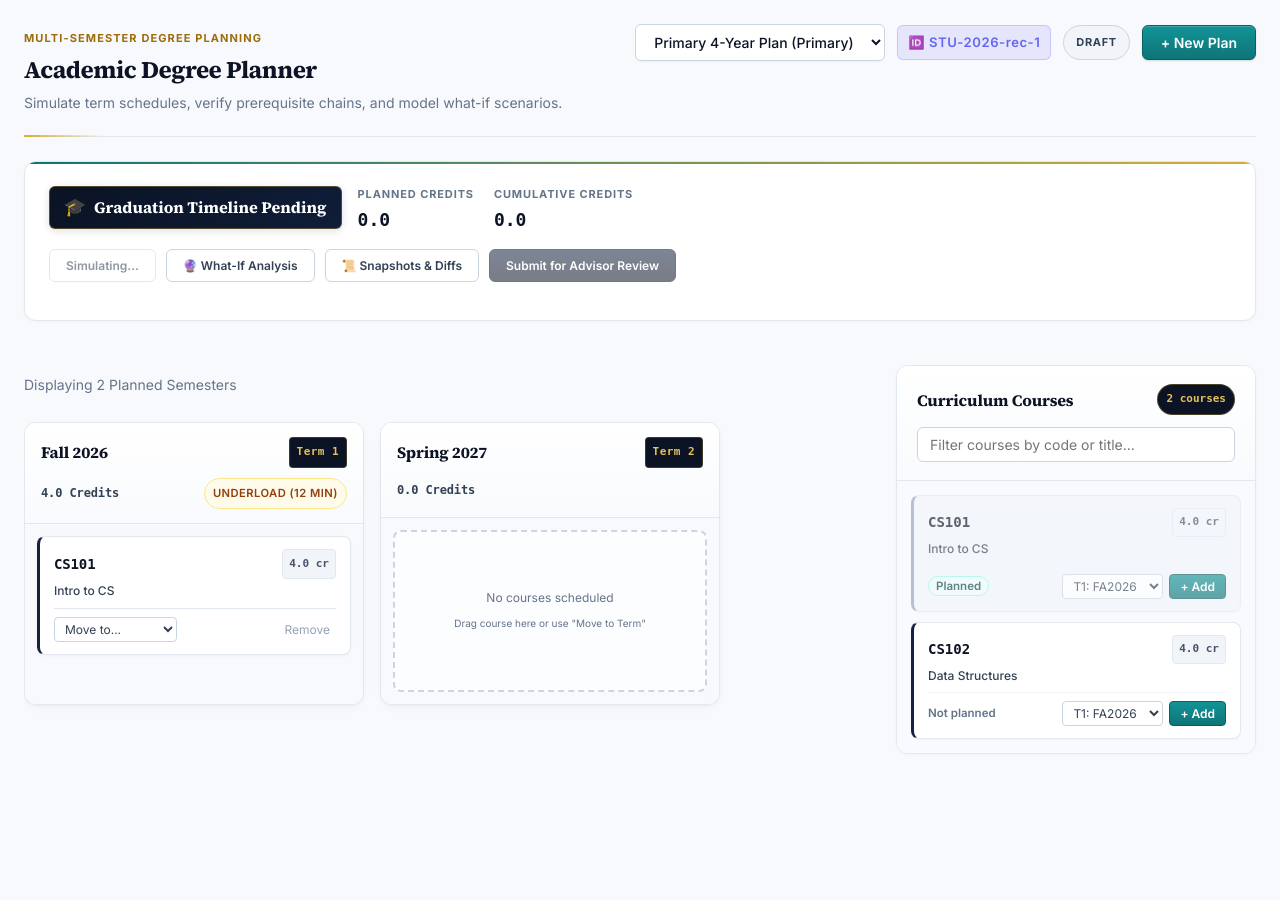
Scenario: DegreePlannerPage Component › handles optimistic concurrency conflict (409) with auto-reload alert
Click the button with test id "add-btn-CS102" at (1198, 714), box [1169,701,1226,726]
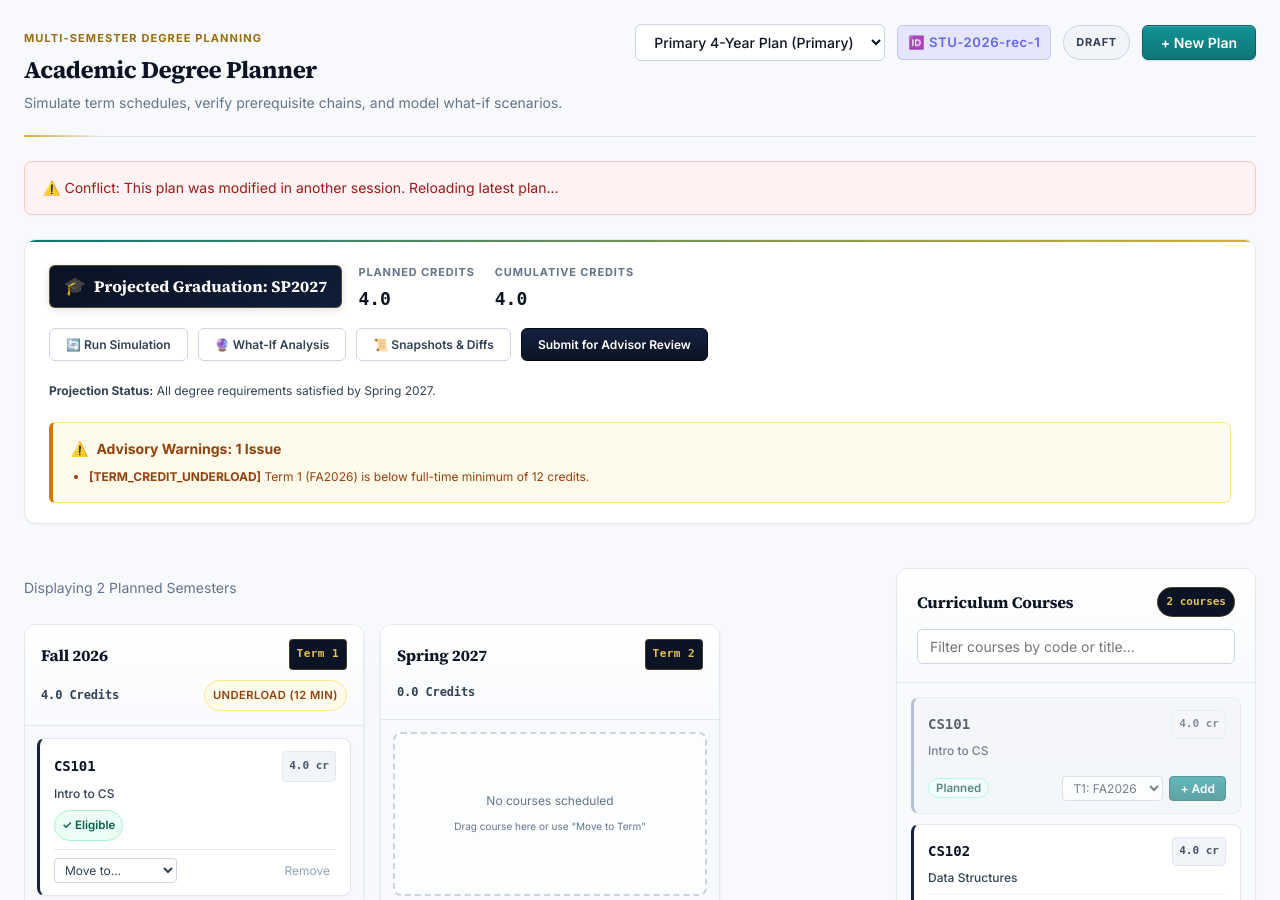
Check: the element with test id "concurrency-conflict-alert" is shown, box [24,161,1256,215]
Check: the element with test id "concurrency-conflict-alert" shows "Conflict: This plan was modified in another session. Reloading latest plan...", box [64,179,559,196]
